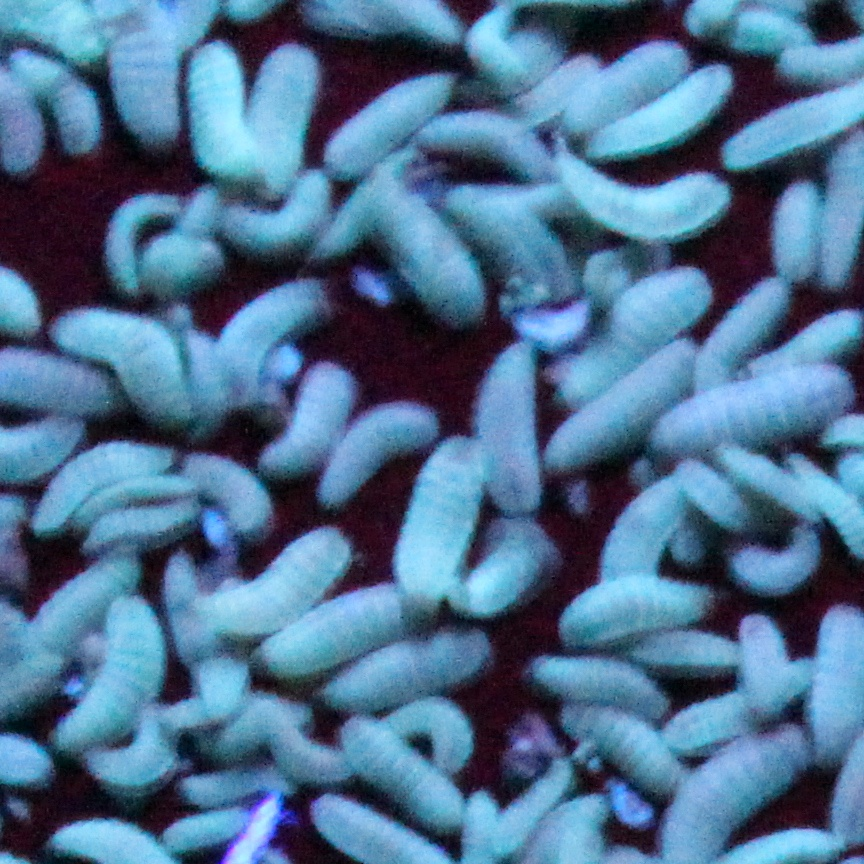larve: (654, 361, 864, 456), (54, 596, 173, 758), (567, 272, 700, 410), (262, 579, 438, 679), (393, 425, 489, 608), (556, 345, 691, 472), (202, 518, 358, 627), (551, 139, 720, 236), (53, 305, 189, 423), (376, 185, 489, 327), (467, 328, 553, 507), (442, 176, 569, 296), (325, 619, 483, 714), (585, 59, 731, 159), (342, 714, 460, 834), (556, 568, 733, 648), (323, 394, 427, 514), (33, 439, 178, 525), (218, 276, 329, 387), (263, 352, 360, 479), (403, 103, 553, 183), (327, 72, 445, 172), (318, 150, 416, 267), (553, 705, 687, 790), (222, 159, 334, 258), (180, 34, 258, 176), (569, 39, 685, 132), (33, 552, 140, 652), (700, 268, 784, 392), (609, 472, 689, 598), (522, 650, 667, 719), (13, 52, 111, 150), (471, 499, 549, 619), (256, 36, 316, 190), (723, 445, 822, 527), (189, 448, 276, 532), (383, 696, 480, 767), (493, 761, 567, 854), (676, 461, 769, 534), (734, 601, 793, 714), (723, 530, 827, 594), (100, 192, 165, 290), (631, 627, 742, 676), (771, 179, 820, 276), (169, 808, 247, 859), (187, 765, 294, 799)
